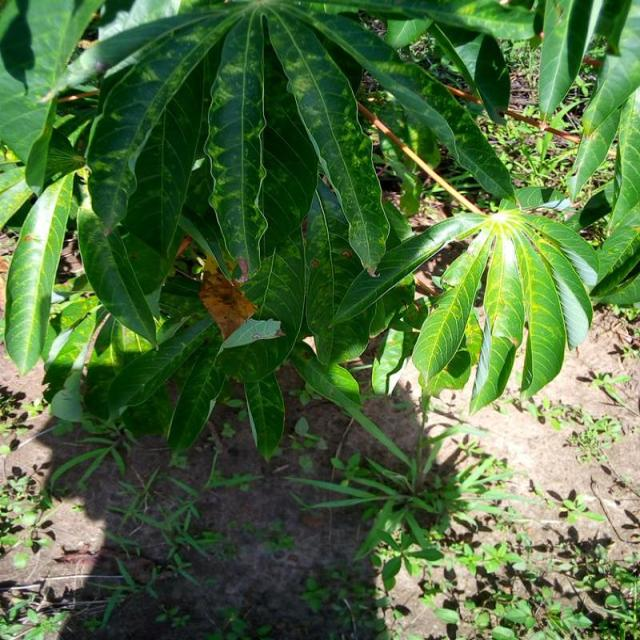cassava leaf: (2, 0, 637, 464), (410, 194, 598, 415), (3, 166, 76, 376)
